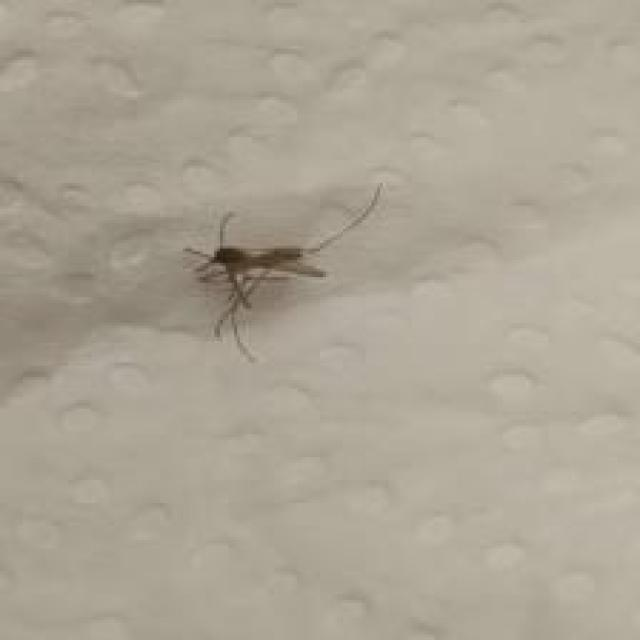Culex: (182, 180, 384, 363)
